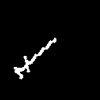double_crochet: (14, 38, 55, 78)
